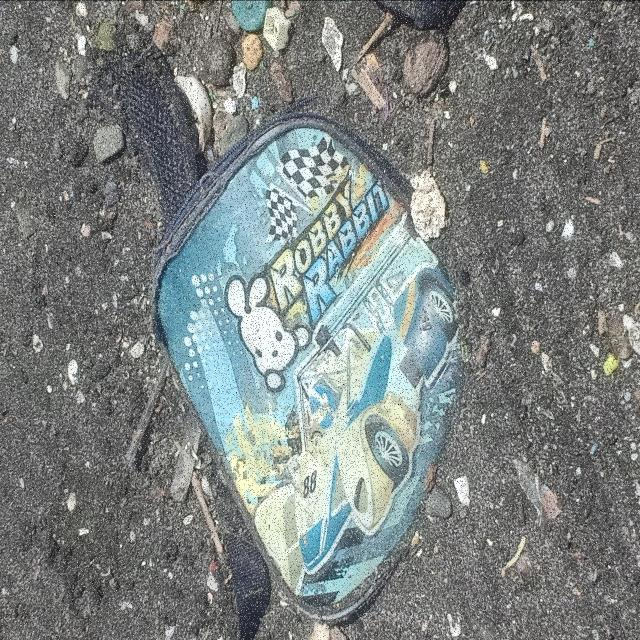textile_waste: (151, 110, 463, 626)
